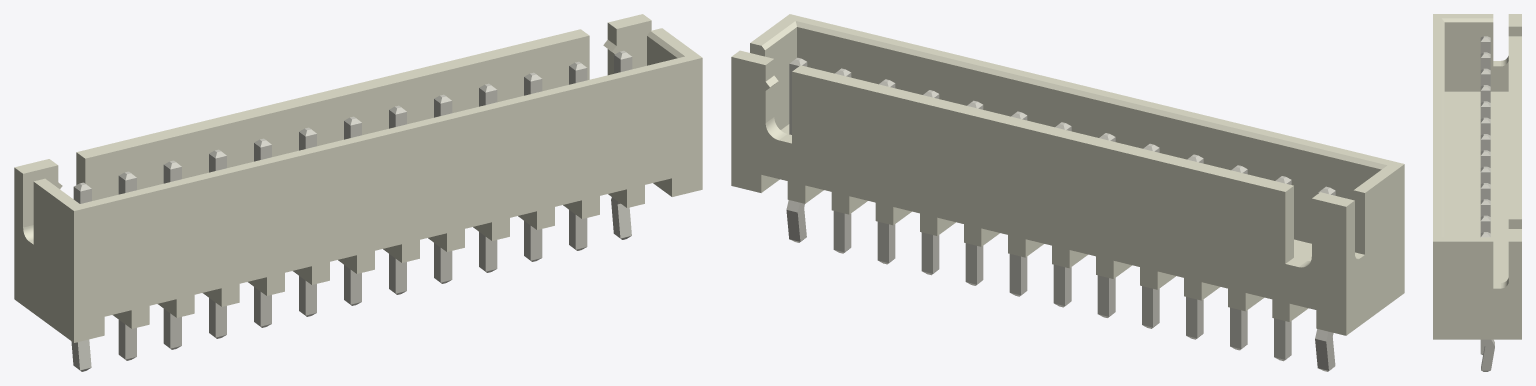
The model's file is kc-jst_xh_b13b-xh-a_1x13_p2.50mm_vertical.glb.
The picture shows the model from 3 angles, left to right: view 1: azimuth 30°, elevation 25°; view 2: azimuth 150°, elevation 25°; view 3: azimuth 270°, elevation 25°; orthographic projection. The views are drawn at different scales.
Parts seen in each view (by area): view 1: 0.75_0.75_0.5833333333333334_0, 0.6666666666666666_0.6666666666666666_0.5833333333333334_0.8; view 2: 0.75_0.75_0.5833333333333334_0, 0.6666666666666666_0.6666666666666666_0.5833333333333334_0.8; view 3: 0.75_0.75_0.5833333333333334_0, 0.6666666666666666_0.6666666666666666_0.5833333333333334_0.8.
Boxes of the visible parts, x1,y1,x2,y2 form: 0.75_0.75_0.5833333333333334_0: (14, 14, 702, 342); 0.6666666666666666_0.6666666666666666_0.5833333333333334_0.8: (71, 50, 632, 371); 0.75_0.75_0.5833333333333334_0: (731, 14, 1404, 335); 0.6666666666666666_0.6666666666666666_0.5833333333333334_0.8: (786, 57, 1335, 371); 0.75_0.75_0.5833333333333334_0: (1433, 14, 1521, 339); 0.6666666666666666_0.6666666666666666_0.5833333333333334_0.8: (1480, 36, 1494, 371).
Bounding box in the file's own units: 3.49 × 1.04 × 0.5752.
